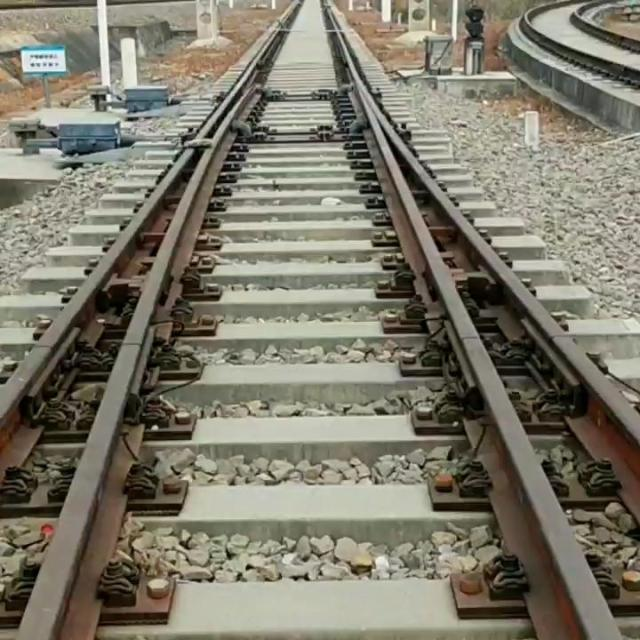rail: (322, 0, 640, 528), (347, 90, 624, 640), (11, 85, 266, 640), (0, 147, 207, 491), (194, 0, 301, 139), (518, 0, 640, 90), (570, 0, 640, 53)
